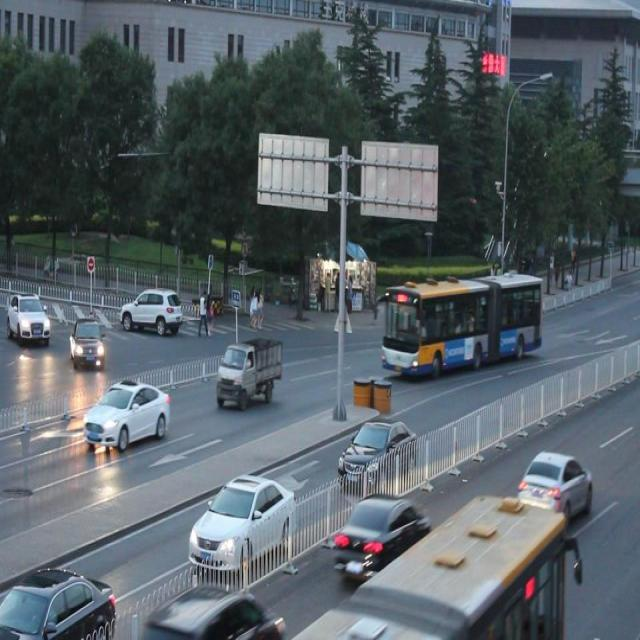bus: (217, 342, 282, 407)
car: (187, 474, 296, 570), (1, 559, 115, 640), (332, 494, 428, 580), (150, 584, 277, 640), (82, 375, 170, 449), (337, 416, 417, 486), (517, 449, 589, 516), (124, 288, 180, 334), (69, 318, 107, 369), (9, 294, 50, 340)
van: (292, 486, 562, 640), (382, 274, 541, 373)
